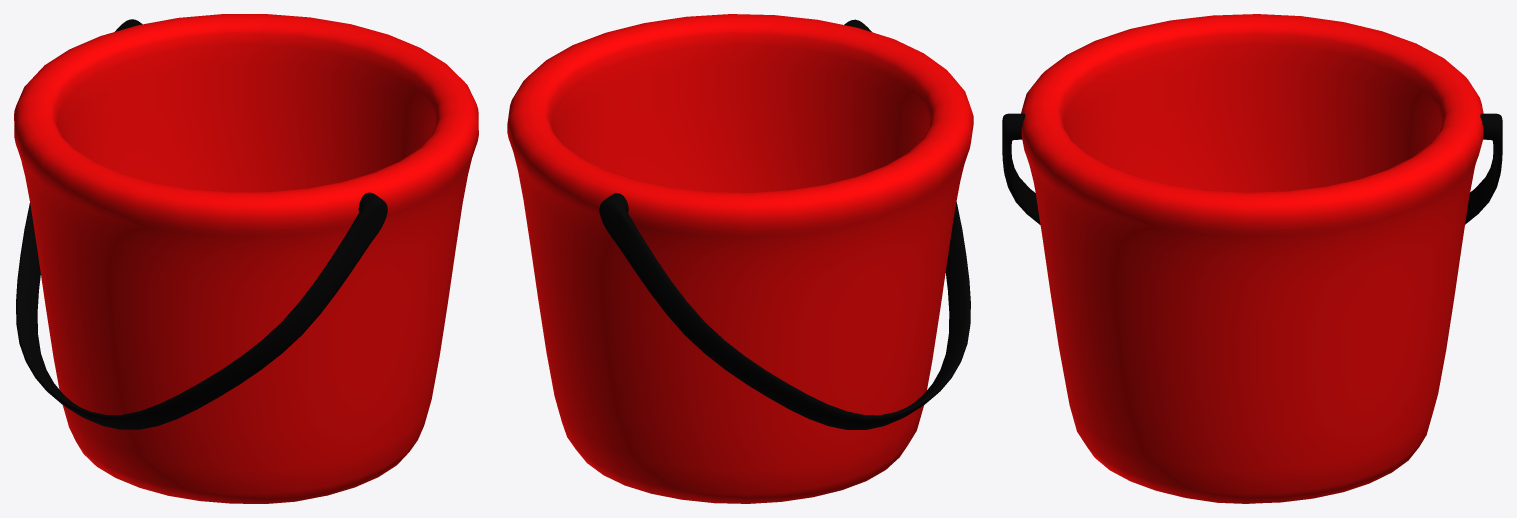
Rendered from hink.fbx.
3 renders of one model, left to right at view 1: azimuth 30°, elevation 25°; view 2: azimuth 150°, elevation 25°; view 3: azimuth 270°, elevation 25°, orthographic.
Visible parts, largest first — view 1: polySurface14; view 2: polySurface14; view 3: polySurface14.
Part boxes in pixels (x1,y1,x2,y2): polySurface14: (14,14,478,503); polySurface14: (507,14,973,503); polySurface14: (1002,14,1502,503).
Bounding box in the file's own units: 1.93 × 1.51 × 2.07.
